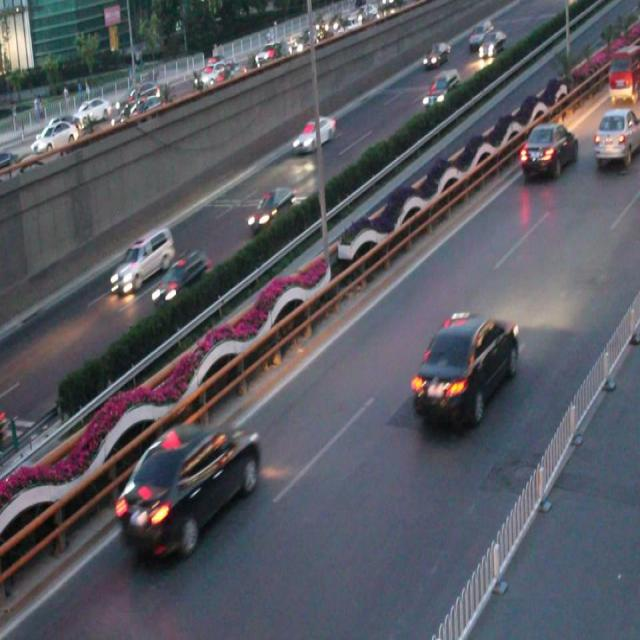car: (119, 419, 258, 554), (412, 310, 516, 426), (518, 119, 577, 177), (151, 249, 210, 303), (593, 108, 640, 166), (247, 186, 296, 232), (290, 111, 335, 153), (421, 67, 459, 110)
truck: (110, 224, 174, 294)
